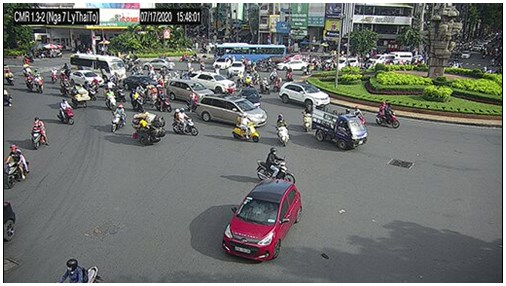xe_buyt: (216, 42, 286, 63), (70, 53, 126, 79)
xe_hoi: (197, 95, 266, 129), (280, 82, 329, 108), (165, 80, 214, 103), (190, 72, 236, 94), (123, 75, 162, 91), (70, 69, 104, 86), (142, 58, 175, 70), (277, 59, 309, 71), (330, 57, 359, 70), (211, 56, 230, 71)
xe_may: (258, 147, 296, 184), (5, 145, 28, 188), (172, 108, 200, 137), (233, 112, 259, 143), (30, 116, 50, 151), (376, 102, 400, 130), (276, 114, 292, 148), (109, 103, 126, 133), (58, 98, 74, 125), (155, 89, 172, 113), (130, 87, 146, 112), (112, 82, 128, 105), (303, 104, 314, 135), (22, 70, 36, 93), (104, 86, 116, 110), (187, 92, 200, 113), (59, 73, 69, 97), (34, 70, 43, 94), (260, 78, 271, 95), (87, 82, 96, 101), (273, 76, 281, 93), (50, 65, 57, 84), (148, 66, 156, 80), (199, 55, 205, 71), (287, 65, 292, 81)
xe_tai: (313, 107, 366, 155)
